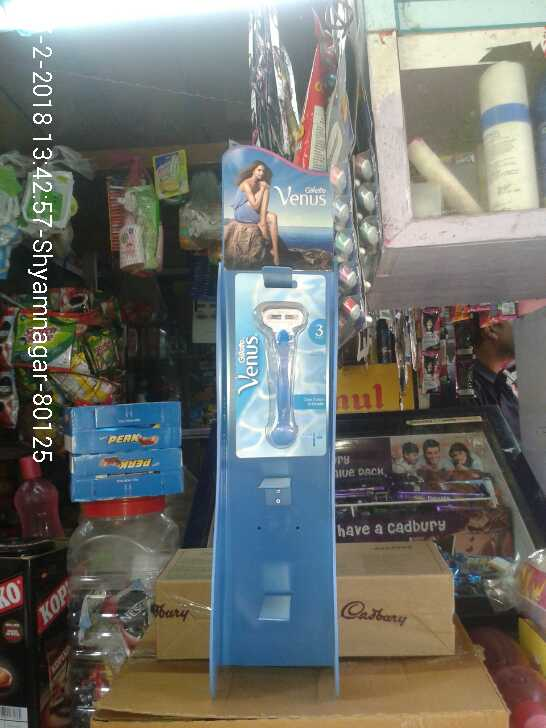venus: (234, 273, 328, 463)
